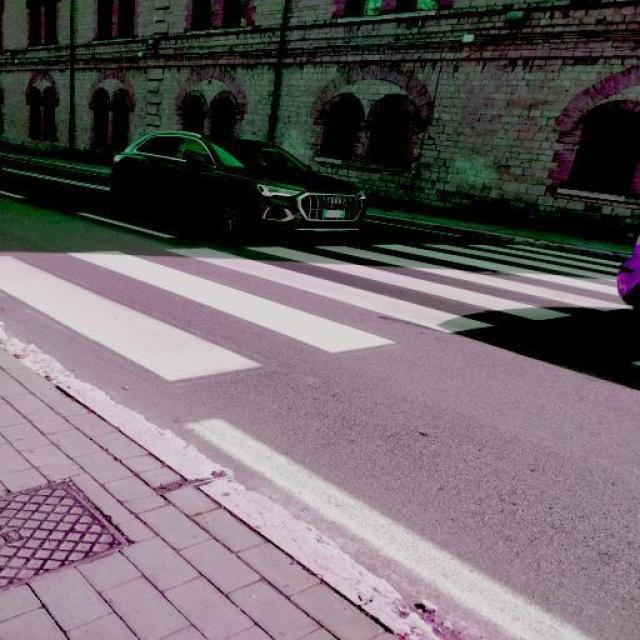crosswalk: (0, 243, 630, 383)
